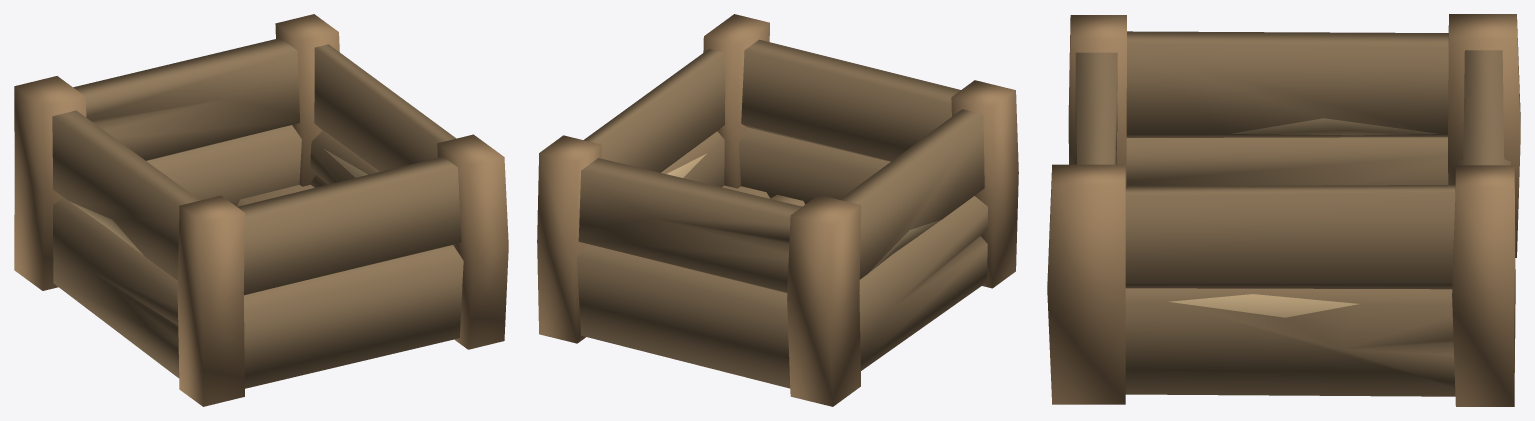
The model's file is rpgpp_ag_crate_02a.fbx.
3 renders of one model, left to right at view 1: azimuth 30°, elevation 25°; view 2: azimuth 150°, elevation 25°; view 3: azimuth 270°, elevation 25°, orthographic. The views are drawn at different scales.
Visible parts, largest first — view 1: rpgpp_ag_crate_02a; view 2: rpgpp_ag_crate_02a; view 3: rpgpp_ag_crate_02a.
Boxes of the visible parts, x1,y1,x2,y2 form: rpgpp_ag_crate_02a: [14, 14, 508, 406]; rpgpp_ag_crate_02a: [537, 14, 1018, 406]; rpgpp_ag_crate_02a: [1047, 14, 1520, 406].
Bounding box in the file's own units: 0.6843 × 0.3984 × 0.78.
